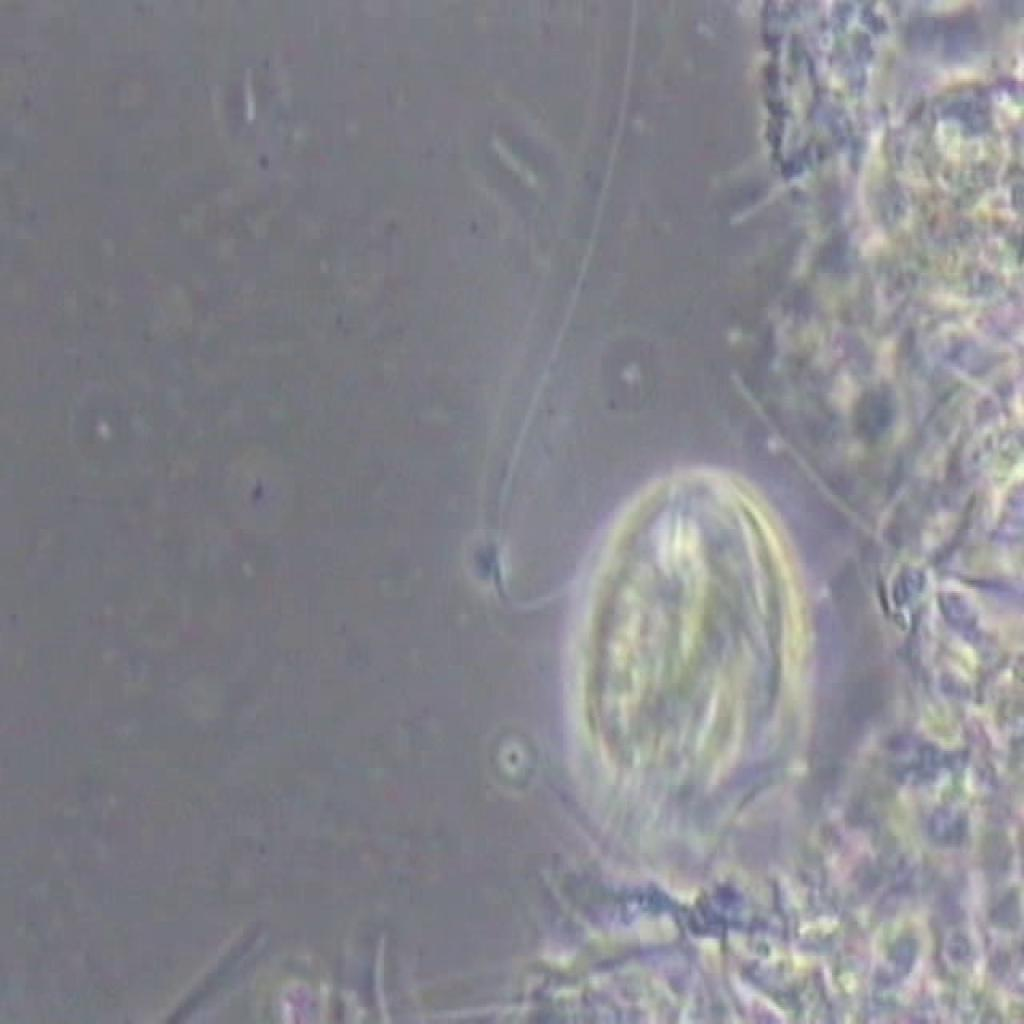Euplotes: (538, 459, 832, 864)
